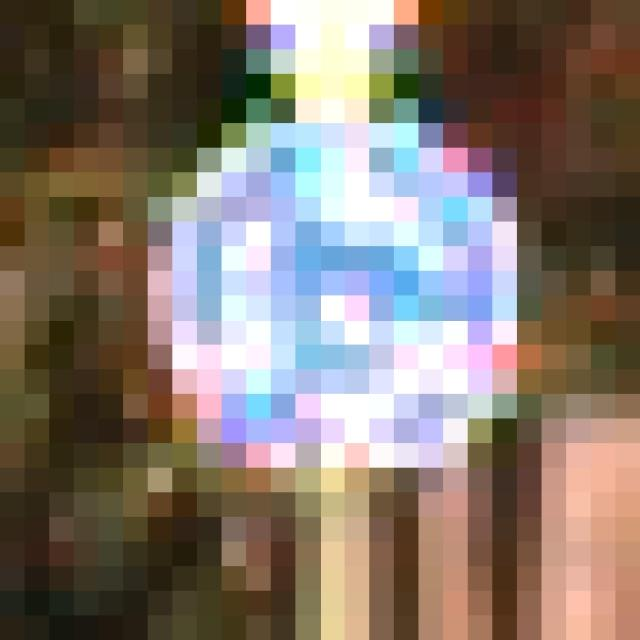Round-About: (99, 98, 566, 517)
